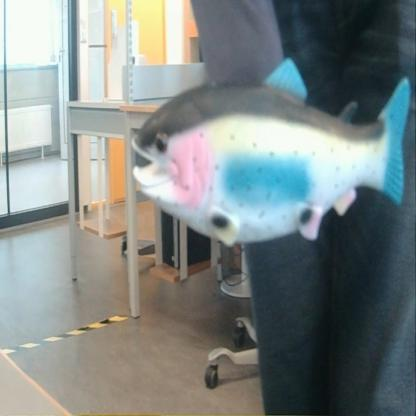rubberfish: (127, 53, 415, 251)
